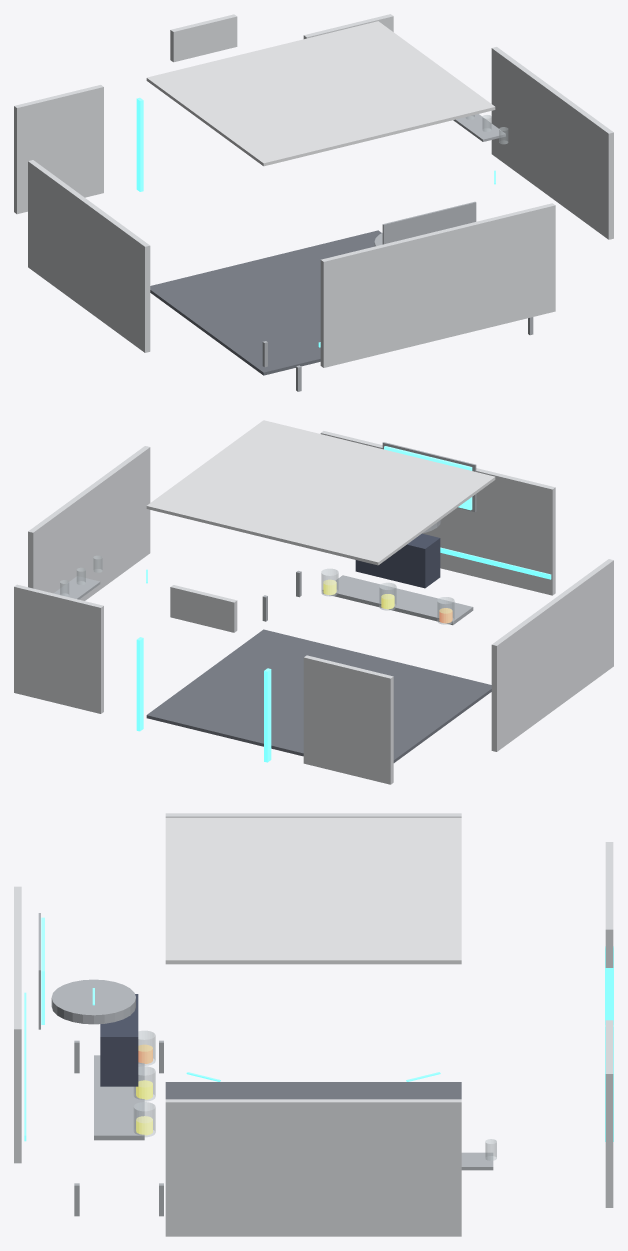
Rendered from QCLab.fbx.
The picture shows the model from 3 angles, top to bottom: view 1: azimuth 30°, elevation 25°; view 2: azimuth 150°, elevation 25°; view 3: azimuth 270°, elevation 25°; orthographic projection. The views are drawn at different scales.
Parts seen in each view (by area): view 1: Lab_Ceiling, Lab_Wall_Back, Lab_Floor, Lab_Wall_Left, Lab_Wall_Right, Lab_Wall_Front_L, Lab_Wall_Front_Top, Lab_Screen_Frame, Lab_Shelf, Lab_DoorFrame_L, Lab_Wall_Front_R; view 2: Lab_Ceiling, Lab_Floor, Lab_Wall_Left, Lab_Wall_Right, Lab_Wall_Back, Lab_Wall_Front_L, Lab_Wall_Front_R, Lab_Bench, Lab_Analyzer_Body, Lab_Wall_Front_Top, Lab_DoorFrame_L, Lab_DoorFrame_R (+4 smaller); view 3: Lab_Ceiling, Lab_Wall_Right, Lab_Floor, Lab_Analyzer_Rotor, Lab_Bench, Lab_Analyzer_Body, Lab_Wall_Back, Lab_Wall_Front_R, Lab_Wall_Left, Lab_Slot_3, Lab_Wall_Front_Top, Lab_Slot_2 (+2 smaller).
Boxes of the visible parts, x1=… form: Lab_Ceiling: x1=146, y1=21, x2=495, y2=166; Lab_Wall_Back: x1=320, y1=203, x2=555, y2=367; Lab_Floor: x1=150, y1=230, x2=381, y2=375; Lab_Wall_Left: x1=28, y1=160, x2=150, y2=352; Lab_Wall_Right: x1=491, y1=47, x2=613, y2=239; Lab_Wall_Front_L: x1=14, y1=85, x2=103, y2=214; Lab_Wall_Front_Top: x1=170, y1=14, x2=237, y2=62; Lab_Screen_Frame: x1=382, y1=201, x2=476, y2=244; Lab_Shelf: x1=453, y1=114, x2=505, y2=141; Lab_DoorFrame_L: x1=136, y1=97, x2=143, y2=191; Lab_Wall_Front_R: x1=303, y1=14, x2=393, y2=38; Lab_Ceiling: x1=146, y1=420, x2=495, y2=565; Lab_Floor: x1=146, y1=629, x2=491, y2=762; Lab_Wall_Left: x1=491, y1=559, x2=613, y2=751; Lab_Wall_Right: x1=28, y1=446, x2=150, y2=600; Lab_Wall_Back: x1=320, y1=431, x2=555, y2=595; Lab_Wall_Front_L: x1=303, y1=655, x2=393, y2=784; Lab_Wall_Front_R: x1=14, y1=584, x2=103, y2=713; Lab_Bench: x1=322, y1=575, x2=473, y2=625; Lab_Analyzer_Body: x1=355, y1=533, x2=440, y2=588; Lab_Wall_Front_Top: x1=170, y1=585, x2=237, y2=632; Lab_DoorFrame_L: x1=264, y1=668, x2=271, y2=762; Lab_DoorFrame_R: x1=136, y1=637, x2=143, y2=731; Lab_Ceiling: x1=165, y1=817, x2=461, y2=964; Lab_Wall_Right: x1=165, y1=1099, x2=461, y2=1236; Lab_Floor: x1=165, y1=1082, x2=461, y2=1099; Lab_Analyzer_Rotor: x1=51, y1=979, x2=135, y2=1024; Lab_Bench: x1=94, y1=1055, x2=144, y2=1140; Lab_Analyzer_Body: x1=100, y1=994, x2=138, y2=1086; Lab_Wall_Back: x1=14, y1=886, x2=21, y2=1163; Lab_Wall_Front_R: x1=605, y1=1020, x2=613, y2=1207; Lab_Wall_Left: x1=165, y1=813, x2=461, y2=817; Lab_Slot_3: x1=133, y1=1102, x2=155, y2=1137; Lab_Wall_Front_Top: x1=605, y1=890, x2=613, y2=967; Lab_Slot_2: x1=133, y1=1066, x2=155, y2=1101.
Size of the model in its own units: 8.09 by 3.5 by 7.1.
